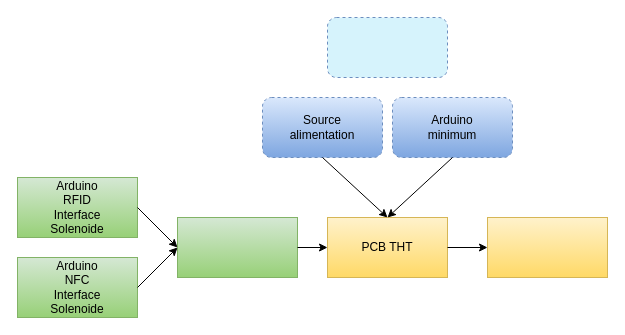
Image size: 625x335. Some labels were removed from this diagram. Each missing label, with the box of its shape:
PCB SMD: (486, 216, 608, 278)
Programmer AVR: (326, 16, 448, 78)
Wifi ESP8266: (176, 216, 298, 278)
